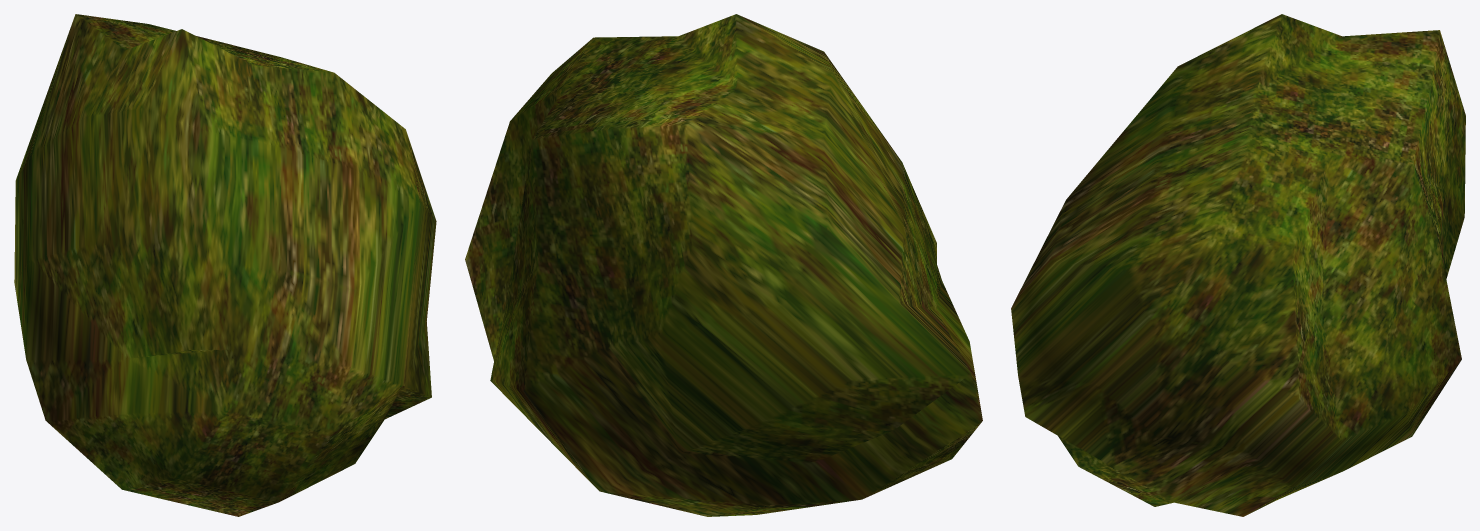
Rendered from TROLLHOLE02_RM_PSURF39.fbx.
The picture shows the model from 3 angles, left to right: view 1: azimuth 30°, elevation 25°; view 2: azimuth 150°, elevation 25°; view 3: azimuth 270°, elevation 25°; orthographic projection. The views are drawn at different scales.
Parts seen in each view (by area): view 1: TROLLHOLE02_RM_PSURF39; view 2: TROLLHOLE02_RM_PSURF39; view 3: TROLLHOLE02_RM_PSURF39.
Boxes of the visible parts, bbox=[...] form: TROLLHOLE02_RM_PSURF39: bbox=[14, 14, 436, 516]; TROLLHOLE02_RM_PSURF39: bbox=[465, 14, 982, 516]; TROLLHOLE02_RM_PSURF39: bbox=[1011, 14, 1465, 516].
Size of the model in its own units: 62542 by 66361 by 58169.
Materials: 1 (1 with a texture image).
